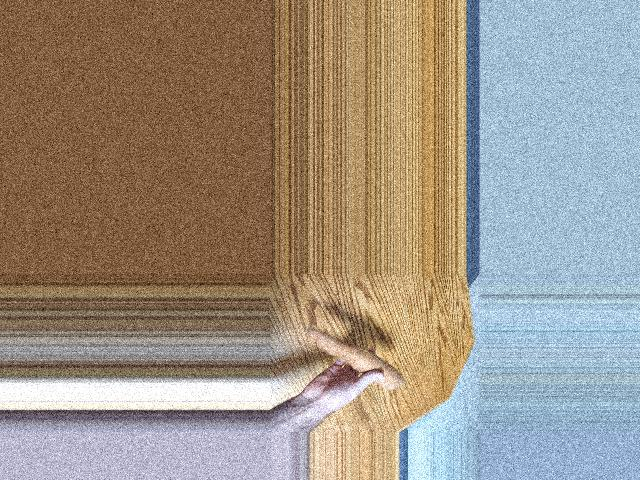sweet_potato: (307, 334, 414, 386)
